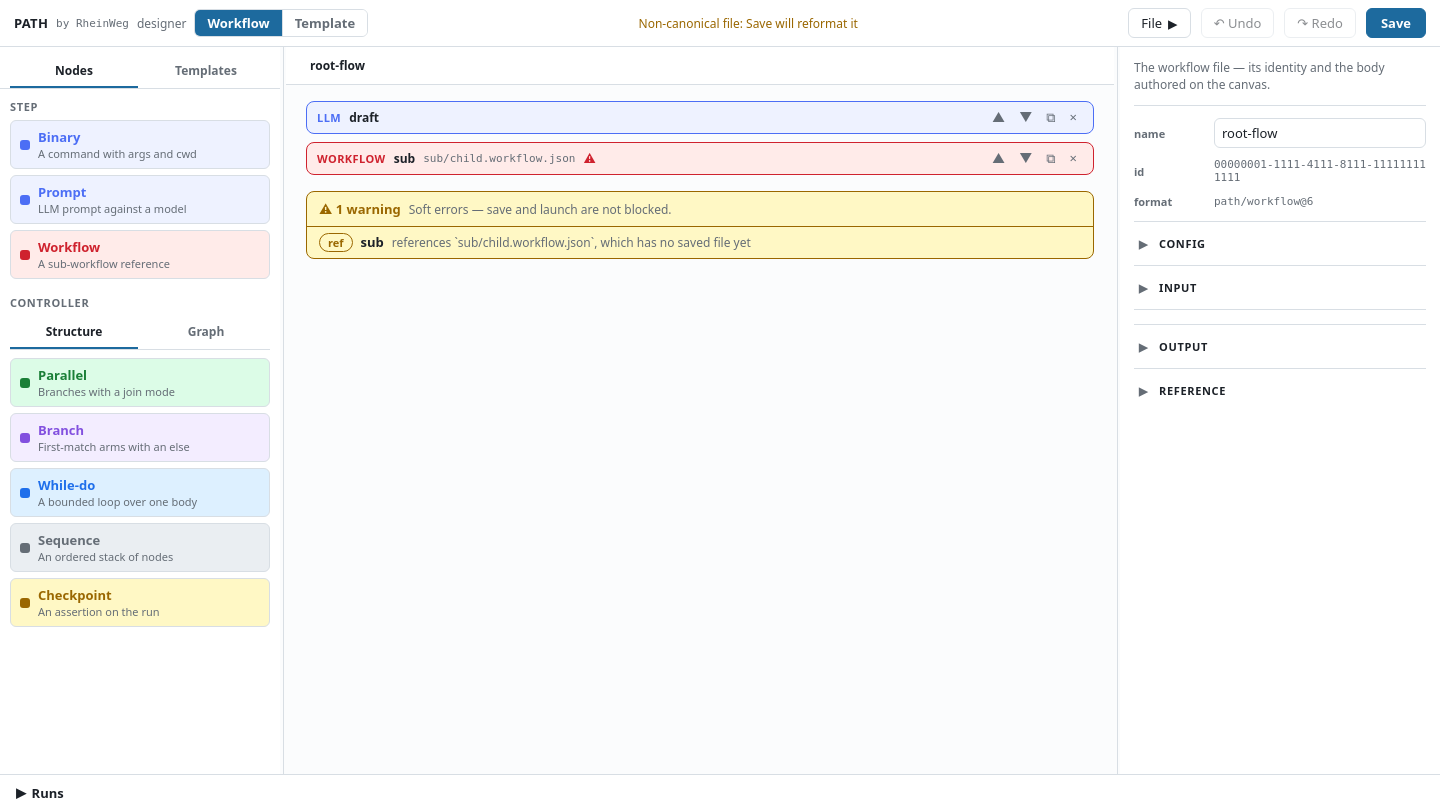
Designer edit-lock lease › takes a second, independent lease when descending into a ref'd file
Expected: the text "draft" is shown, top-left (349, 109), bottom-right (379, 126)
Double-click the button "sub/child.workflow.json": (351, 158) top-left (306, 142), bottom-right (1094, 175)
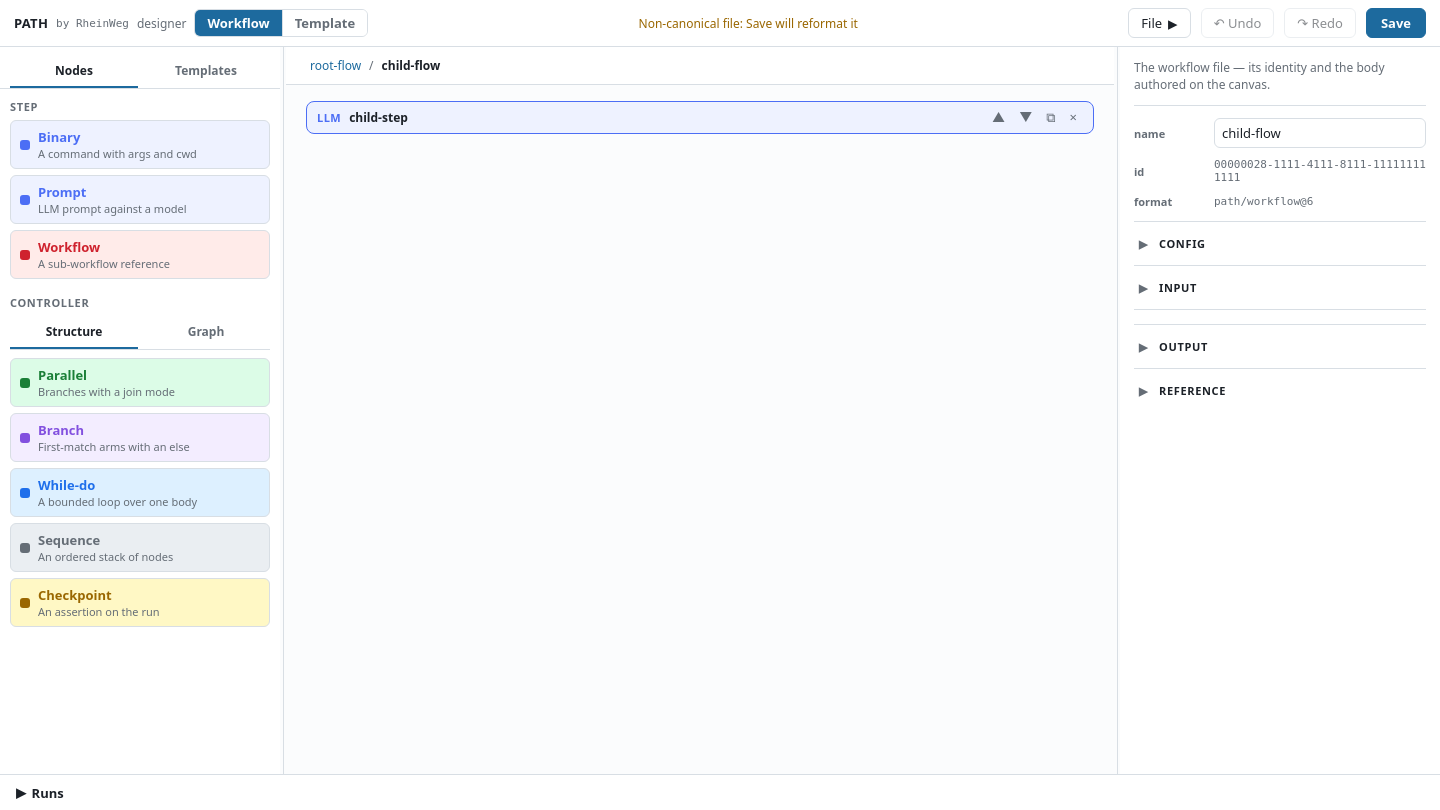
Result: the text "child-step" is shown at top-left (349, 109), bottom-right (408, 126)
